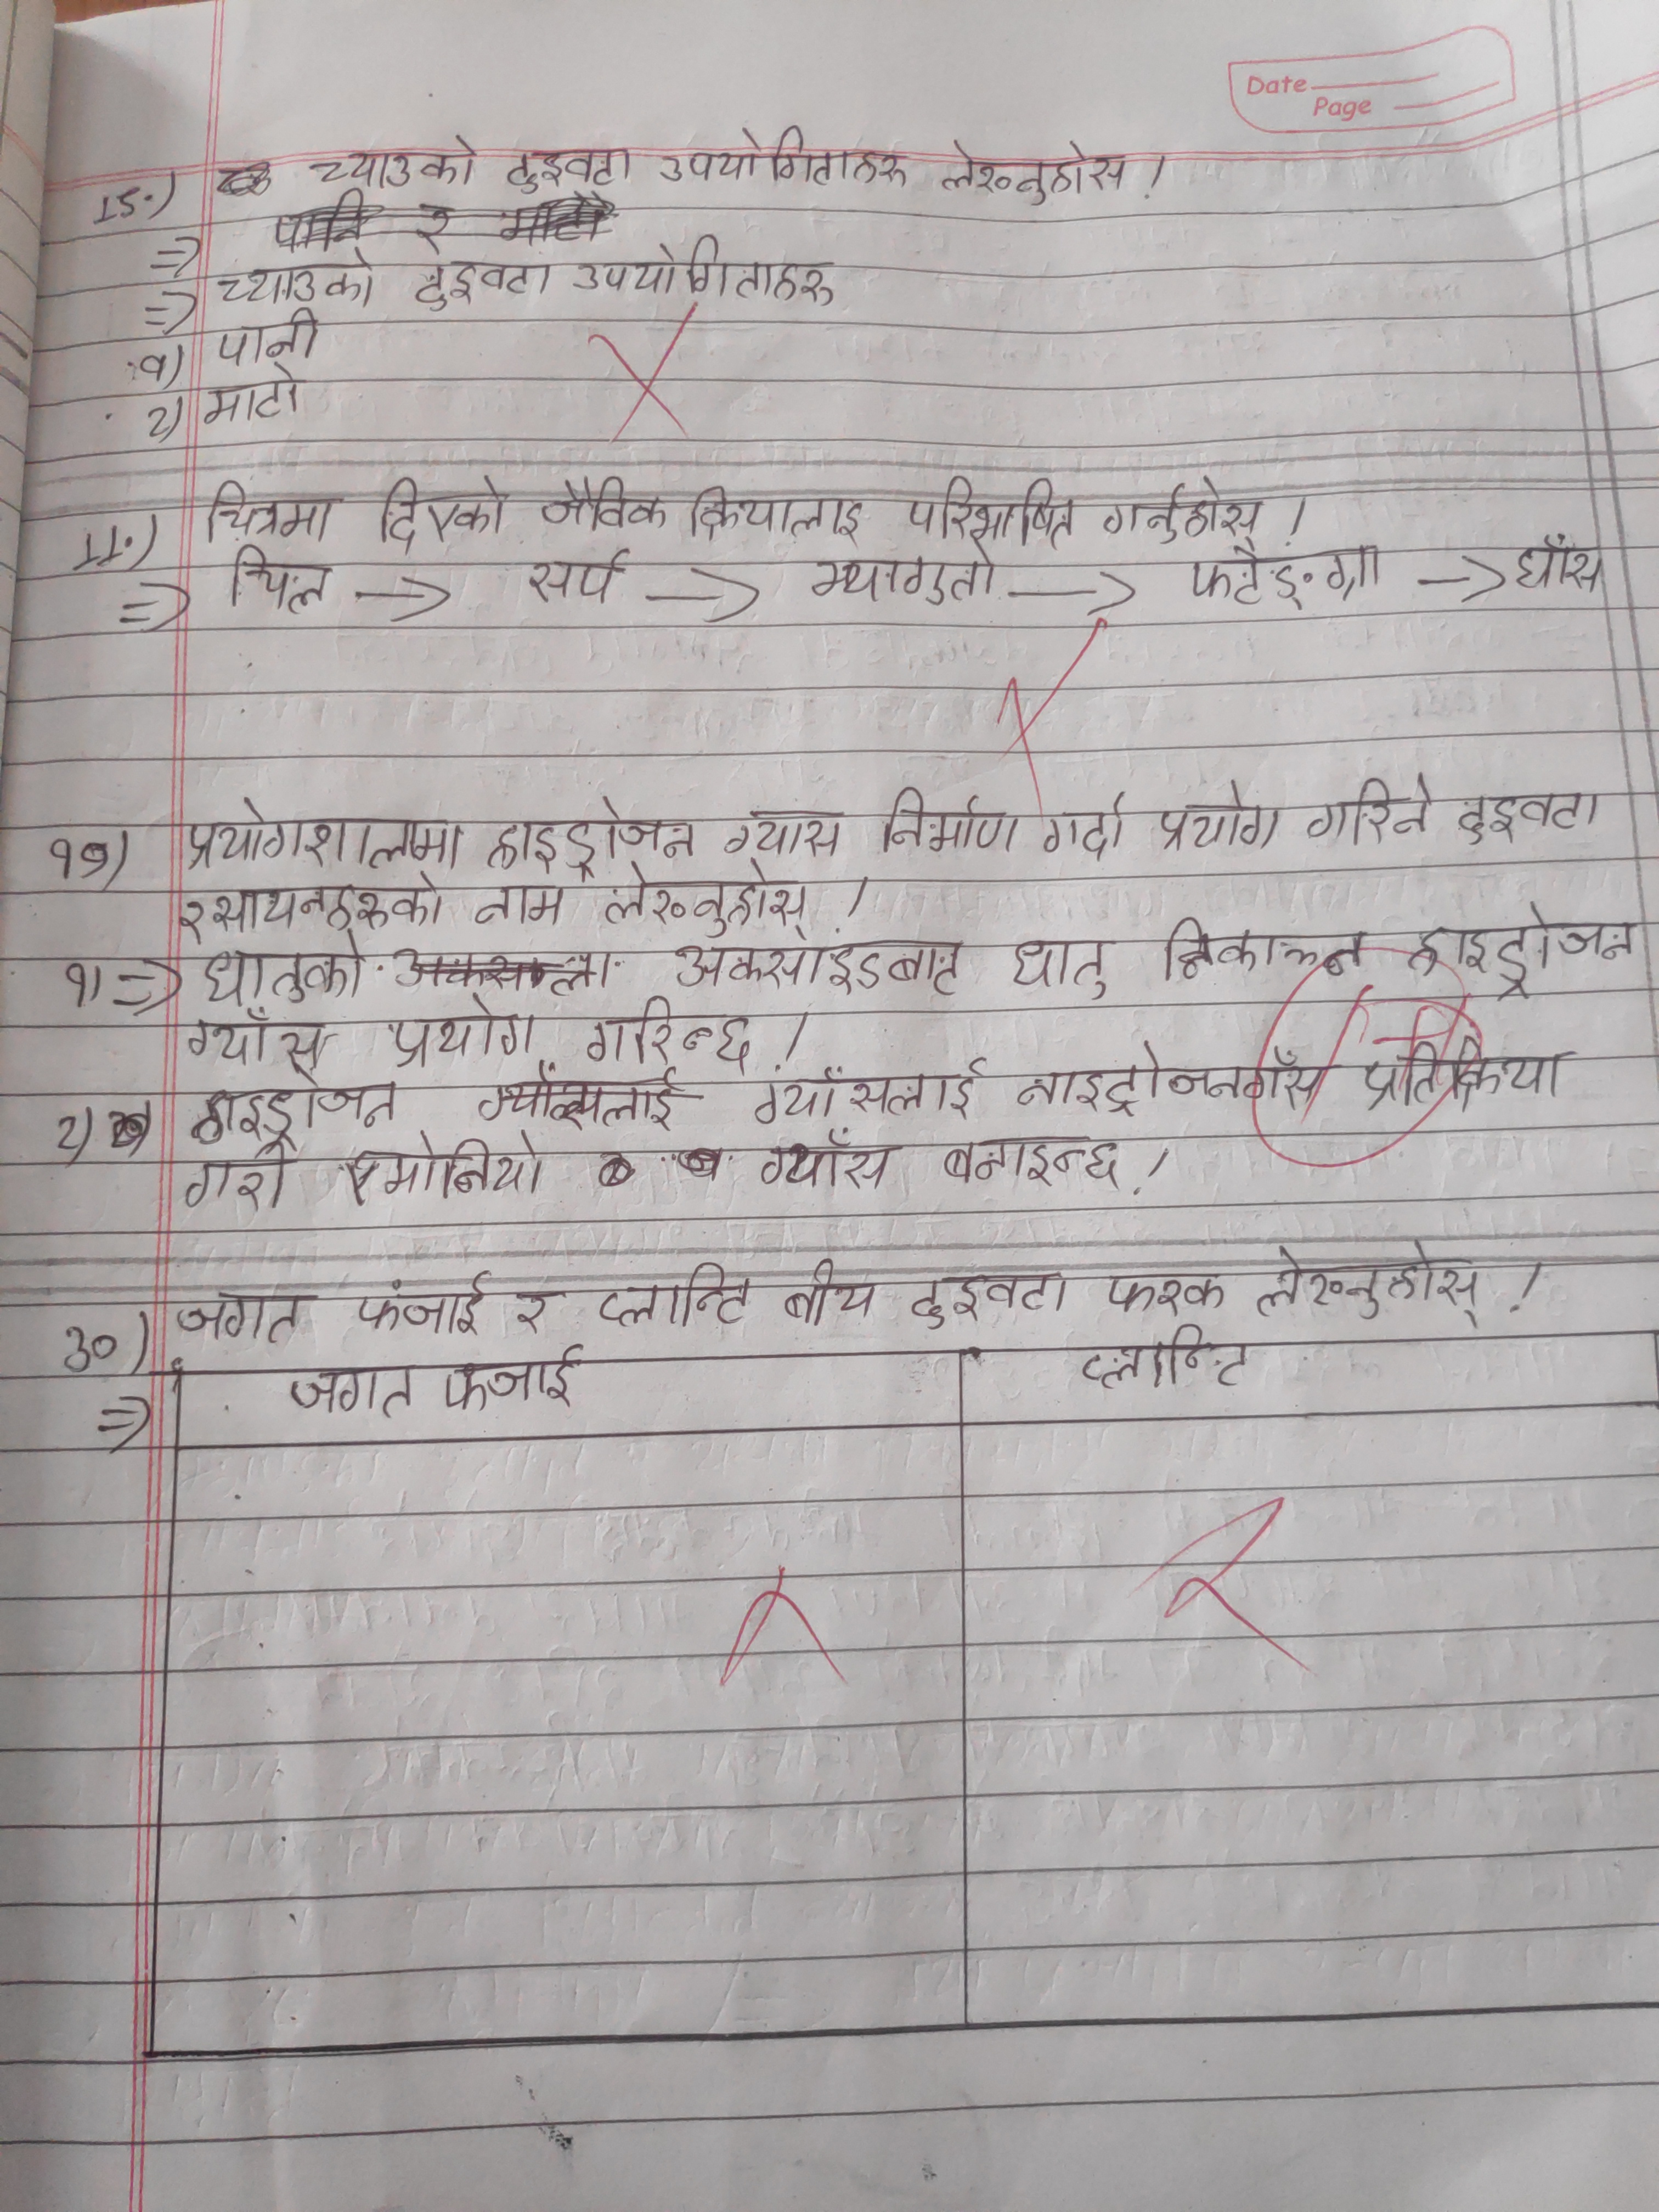text: (1012, 1038, 1331, 1118), (1403, 900, 1643, 998), (178, 794, 464, 871), (1253, 1242, 1493, 1331), (572, 235, 845, 312), (667, 932, 964, 998), (173, 869, 451, 935), (484, 796, 699, 880), (653, 125, 908, 195), (596, 862, 812, 942), (190, 1069, 399, 1146), (342, 1132, 547, 1205), (748, 1069, 992, 1129), (1356, 1038, 1570, 1104), (1159, 913, 1371, 979), (1188, 540, 1384, 611), (941, 134, 1131, 207), (579, 996, 762, 1069), (904, 472, 1080, 547), (193, 930, 369, 1005), (596, 1259, 753, 1339), (803, 543, 997, 608), (1079, 1322, 1253, 1393), (681, 481, 868, 543), (871, 787, 1025, 860), (938, 1130, 1124, 1190), (1100, 481, 1269, 545), (387, 996, 537, 1068), (375, 470, 507, 550), (439, 1343, 586, 1413), (746, 1125, 894, 1193), (181, 1008, 331, 1073), (354, 1271, 488, 1343), (904, 1270, 1070, 1327), (310, 136, 479, 192), (214, 253, 378, 308), (1157, 782, 1288, 852), (204, 477, 340, 543), (1304, 775, 1431, 845), (286, 1362, 423, 1423), (169, 1284, 308, 1343), (181, 1143, 291, 1216), (1007, 930, 1115, 1003), (716, 805, 849, 864), (1452, 791, 1607, 841), (227, 545, 331, 618), (540, 475, 673, 533), (411, 254, 547, 310), (777, 1259, 878, 1331), (202, 368, 312, 428), (502, 145, 640, 192), (1516, 531, 1607, 603), (216, 310, 328, 368), (525, 545, 631, 604), (1105, 1266, 1227, 1317), (469, 880, 568, 937), (1042, 792, 1131, 855), (509, 1289, 558, 1332), (129, 341, 173, 383), (139, 402, 179, 442)
